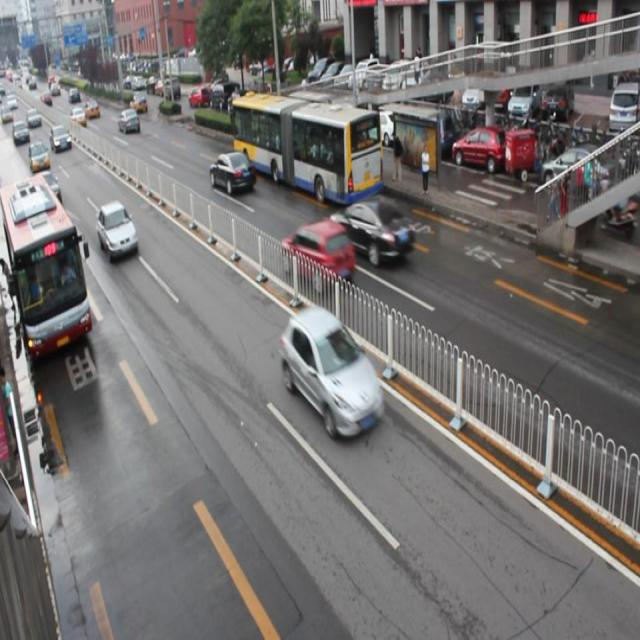car: (281, 306, 383, 439), (329, 199, 414, 266), (279, 224, 353, 288), (97, 202, 139, 257), (210, 151, 255, 195), (35, 170, 62, 202)
van: (230, 91, 380, 203), (1, 175, 91, 357)
